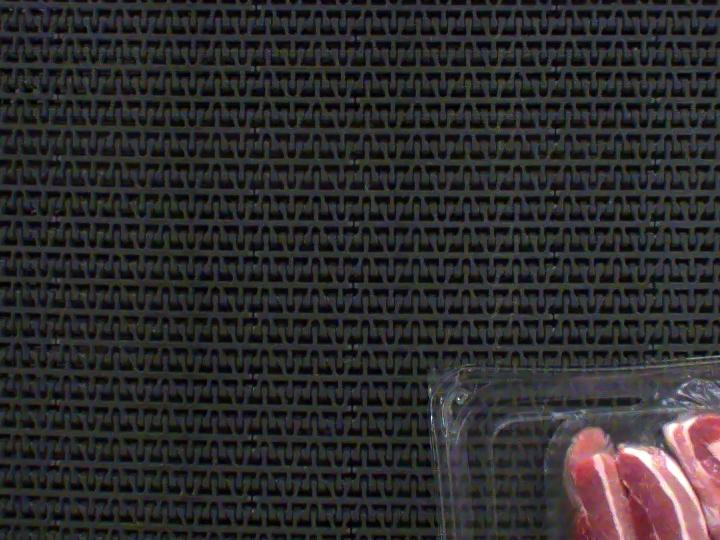unsealed: (542, 351, 720, 540)
